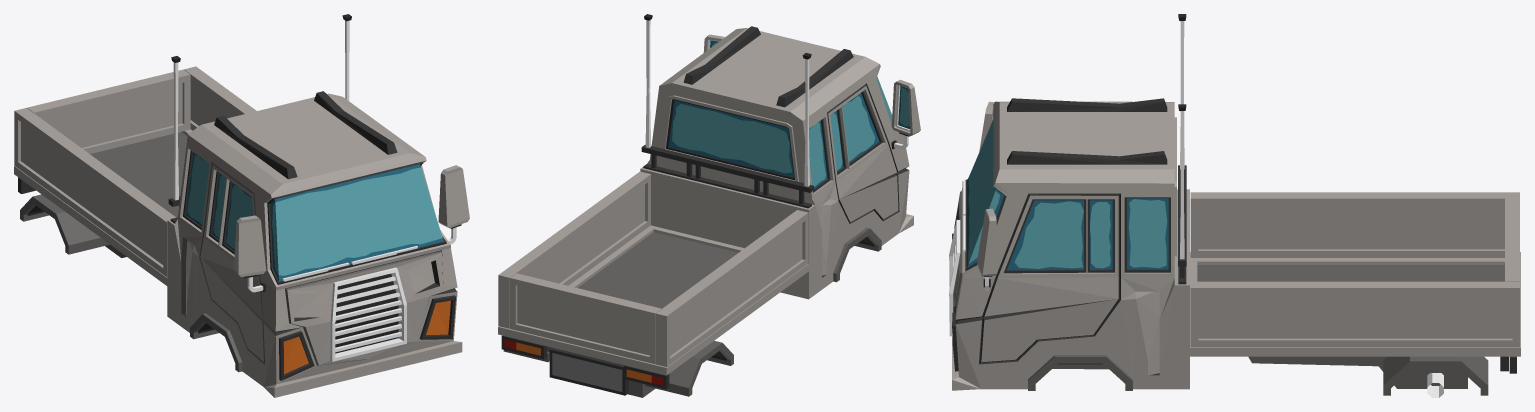
The model's file is Car_B_01.FBX.
3 renders of one model, left to right at view 1: azimuth 30°, elevation 25°; view 2: azimuth 150°, elevation 25°; view 3: azimuth 270°, elevation 25°, orthographic. The views are drawn at different scales.
Visible parts, largest first — view 1: Car_B_01; view 2: Car_B_01; view 3: Car_B_01.
Boxes of the visible parts, x1=… form: Car_B_01: x1=14, y1=14, x2=469, y2=397; Car_B_01: x1=498, y1=14, x2=920, y2=397; Car_B_01: x1=949, y1=14, x2=1520, y2=397.
Size of the model in its own units: 3.82 by 4.48 by 7.57.
